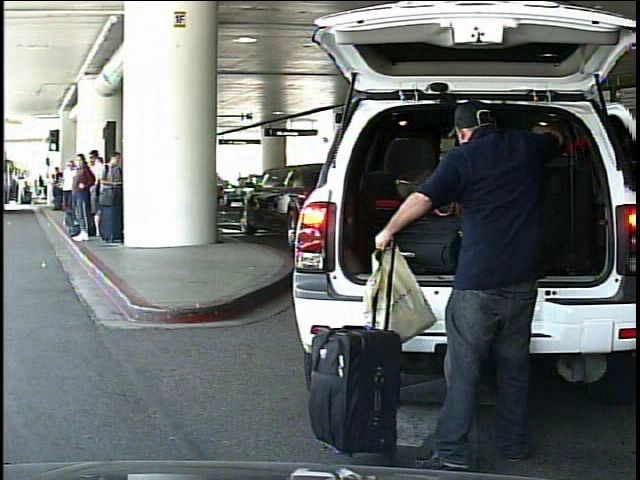person: (372, 102, 564, 473), (34, 172, 46, 203), (18, 175, 28, 206)
